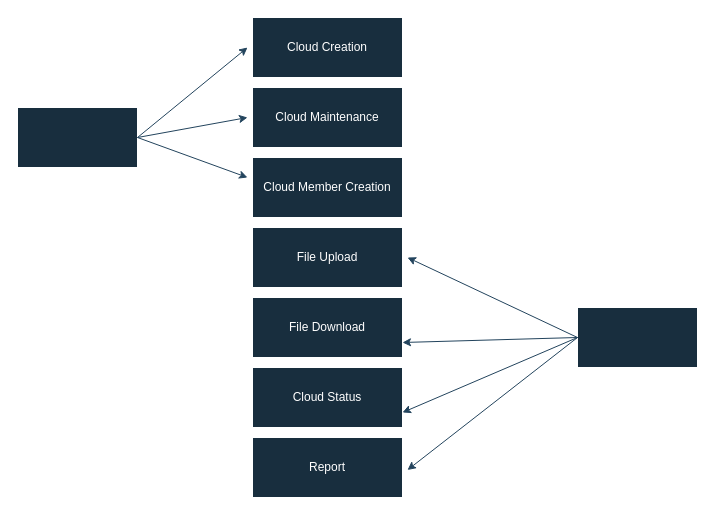
Some shapes in this 715 by 515 pixel diagram are drawn without their labels. The shapes that lost their labels are listed below. From the top down, each one's box as (x1, y1, x2, y2) in pixels, then its label:
(16, 106, 138, 168): Admin
(576, 306, 698, 368): End User
